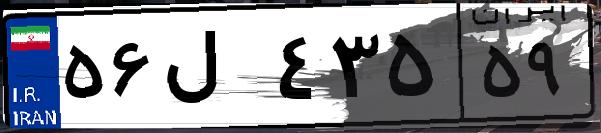3: (330, 28, 385, 110)
4: (270, 28, 330, 110)
5: (385, 28, 445, 110), (57, 26, 110, 100), (475, 38, 525, 113)
6: (110, 28, 158, 98)
9: (525, 38, 570, 115)
ل: (158, 20, 270, 120)
